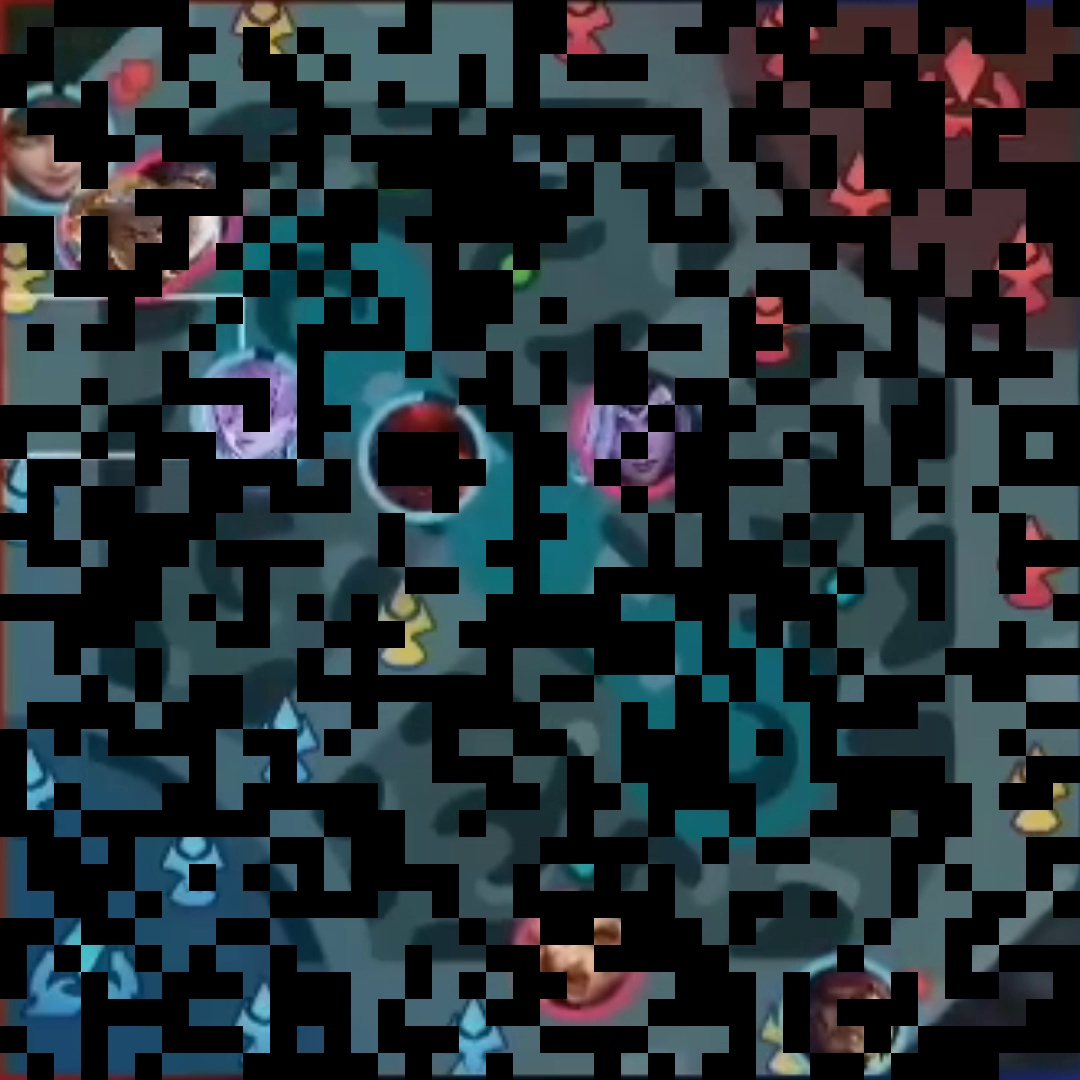Chou: (90, 182, 175, 285)
Lapu-Lapu: (794, 963, 902, 1066)
Masha: (525, 899, 636, 1000)
Minotaur: (377, 402, 477, 513)
Novaria: (204, 357, 314, 472)
Valentina: (586, 372, 689, 488)
Wanwan: (8, 94, 98, 208)
